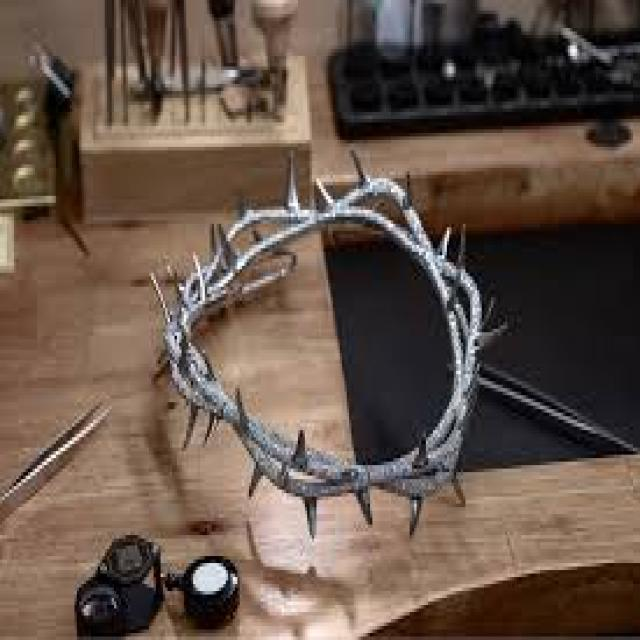crown: (140, 125, 510, 542)
